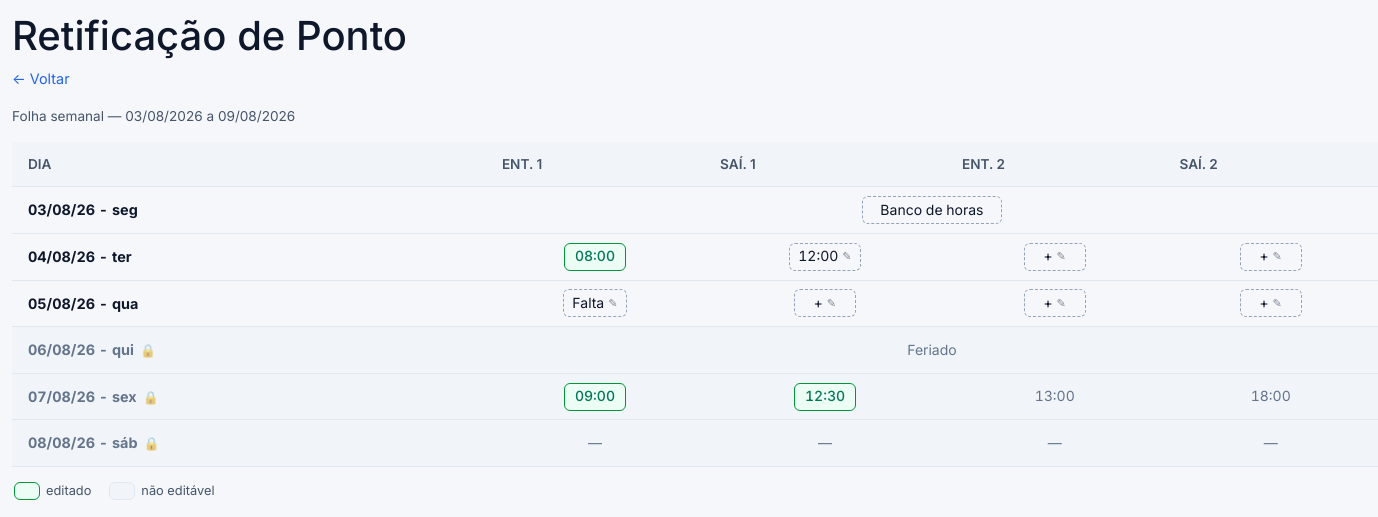
Scenario: PontoRetificarComponent › menu da célula › render: a faixa da marcação individual é um botão tracejado que abre o menu do dia
Step 1. Click the button "Banco de horas" → (932, 210), box [862,196,1002,224]
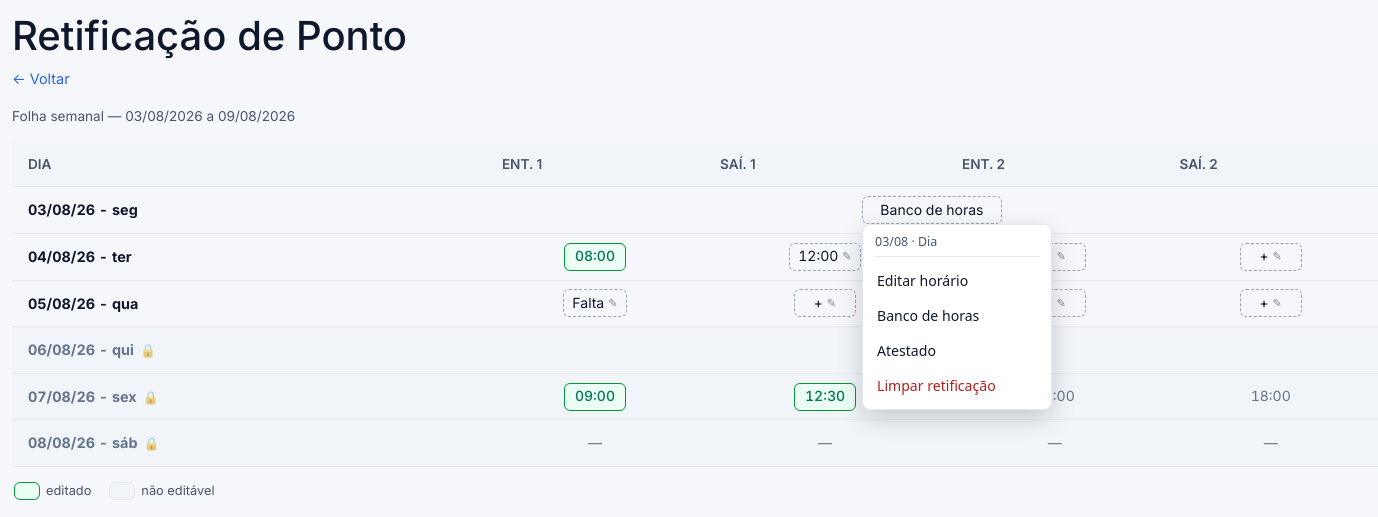
Expected: the text "03/08 · Dia" is shown, [875,233,1039,257]
